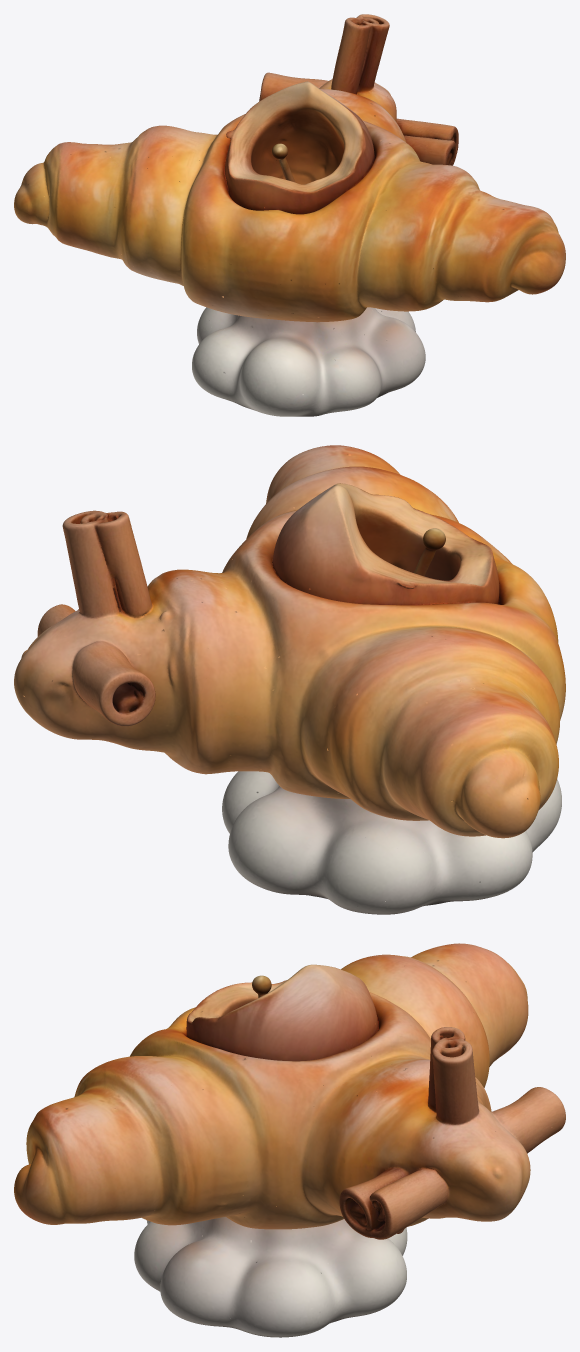
The model's file is prop-golden-croissant.glb.
The picture shows the model from 3 angles, top to bottom: view 1: azimuth 30°, elevation 25°; view 2: azimuth 150°, elevation 25°; view 3: azimuth 270°, elevation 25°; orthographic projection. The views are drawn at different scales.
Parts seen in each view (by area): view 1: tripo_node_53acf263-0c6a-48c9-bb55-8e7f87d29a7d; view 2: tripo_node_53acf263-0c6a-48c9-bb55-8e7f87d29a7d; view 3: tripo_node_53acf263-0c6a-48c9-bb55-8e7f87d29a7d.
Part boxes in pixels (bbox=[...]): tripo_node_53acf263-0c6a-48c9-bb55-8e7f87d29a7d: bbox=[14, 14, 565, 416]; tripo_node_53acf263-0c6a-48c9-bb55-8e7f87d29a7d: bbox=[14, 445, 565, 914]; tripo_node_53acf263-0c6a-48c9-bb55-8e7f87d29a7d: bbox=[14, 943, 565, 1337].
Size of the model in its own units: 1 by 0.658 by 0.9957.
Materials: 1 (1 with a texture image).
